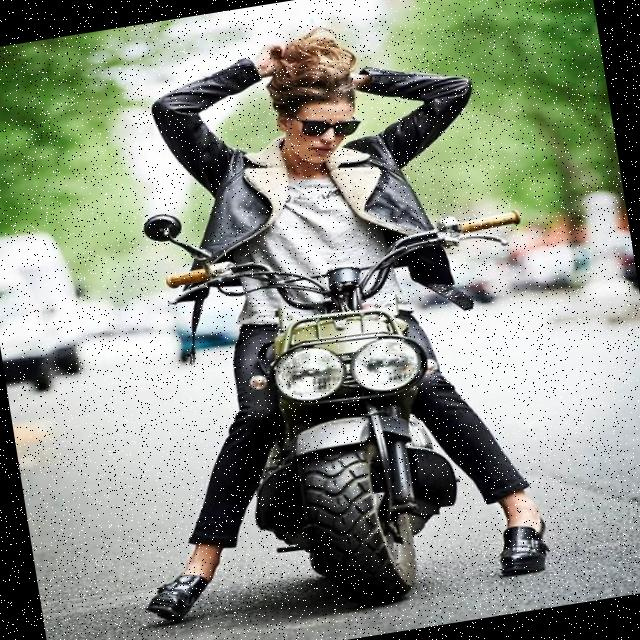No helmet: (257, 31, 373, 172)
